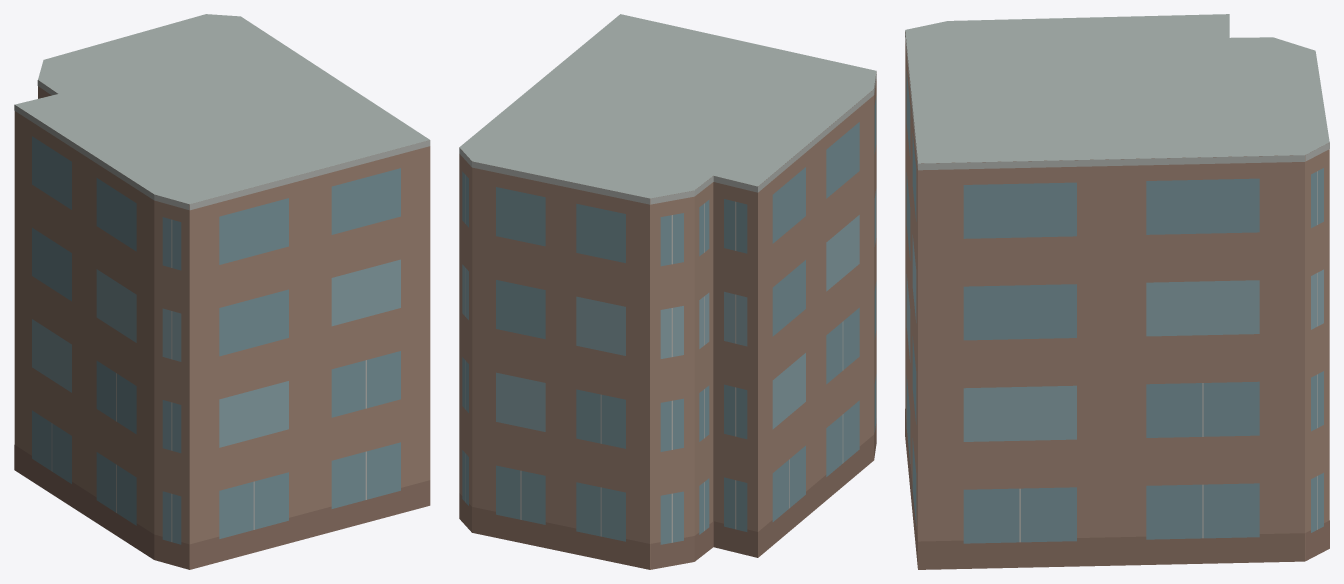
File: survey-upis-33025411.glb
3 renders of one model, left to right at view 1: azimuth 30°, elevation 25°; view 2: azimuth 150°, elevation 25°; view 3: azimuth 270°, elevation 25°, orthographic. The views are drawn at different scales.
Visible parts, largest first — view 1: survey-upis-33025411.tmp; view 2: survey-upis-33025411.tmp; view 3: survey-upis-33025411.tmp.
Part boxes in pixels (bbox=[...]): survey-upis-33025411.tmp: bbox=[14, 14, 430, 569]; survey-upis-33025411.tmp: bbox=[459, 14, 876, 569]; survey-upis-33025411.tmp: bbox=[905, 14, 1329, 569].
Bounding box in the file's own units: 11.61 × 14.7 × 13.93.
